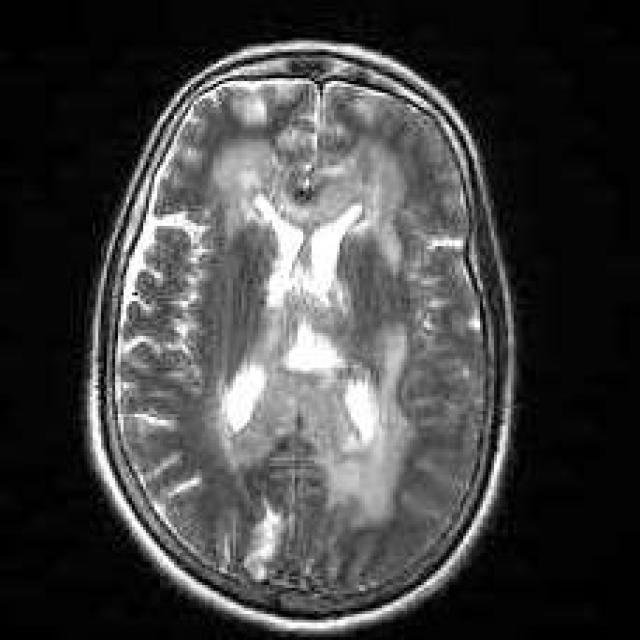notumor: (84, 41, 519, 631)
